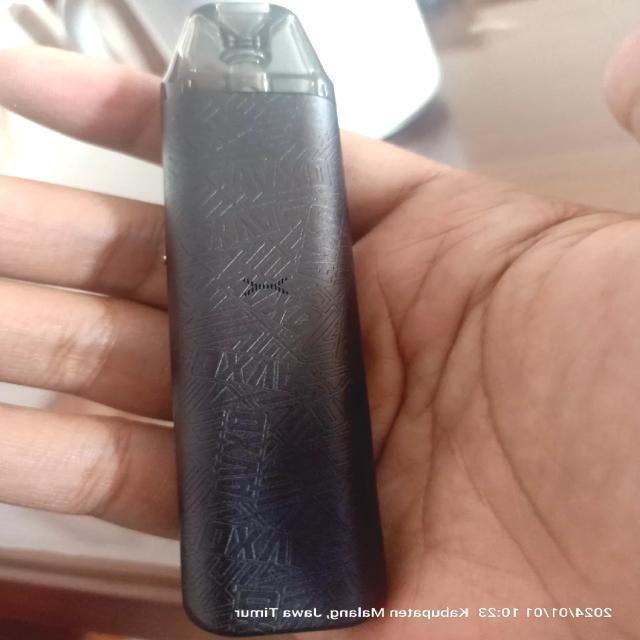Hazard: (160, 0, 400, 639)
